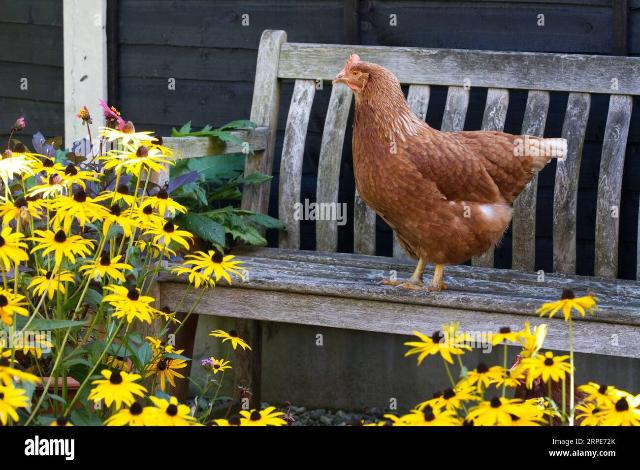Chicken: (330, 52, 568, 292)
